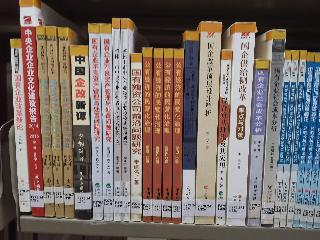book-spine: (18, 0, 51, 219), (224, 22, 257, 227), (260, 28, 288, 229), (196, 23, 221, 226), (177, 31, 200, 226), (284, 50, 308, 229), (69, 44, 93, 221), (278, 49, 301, 229), (9, 39, 32, 218), (35, 25, 56, 218), (272, 50, 294, 228), (292, 52, 314, 229), (298, 52, 320, 229), (247, 59, 270, 226), (46, 24, 64, 219), (214, 49, 233, 226), (56, 27, 73, 220), (88, 22, 103, 222), (117, 19, 131, 222), (99, 22, 113, 221), (141, 47, 155, 224), (150, 47, 164, 224), (161, 48, 175, 223), (170, 49, 184, 224), (112, 17, 123, 221), (129, 53, 142, 222)
